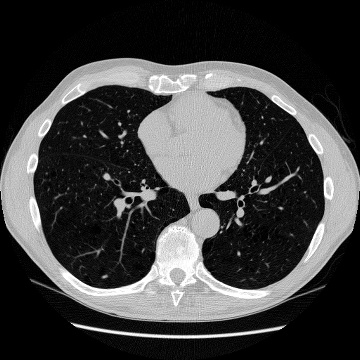PN: (102, 274, 106, 278)
